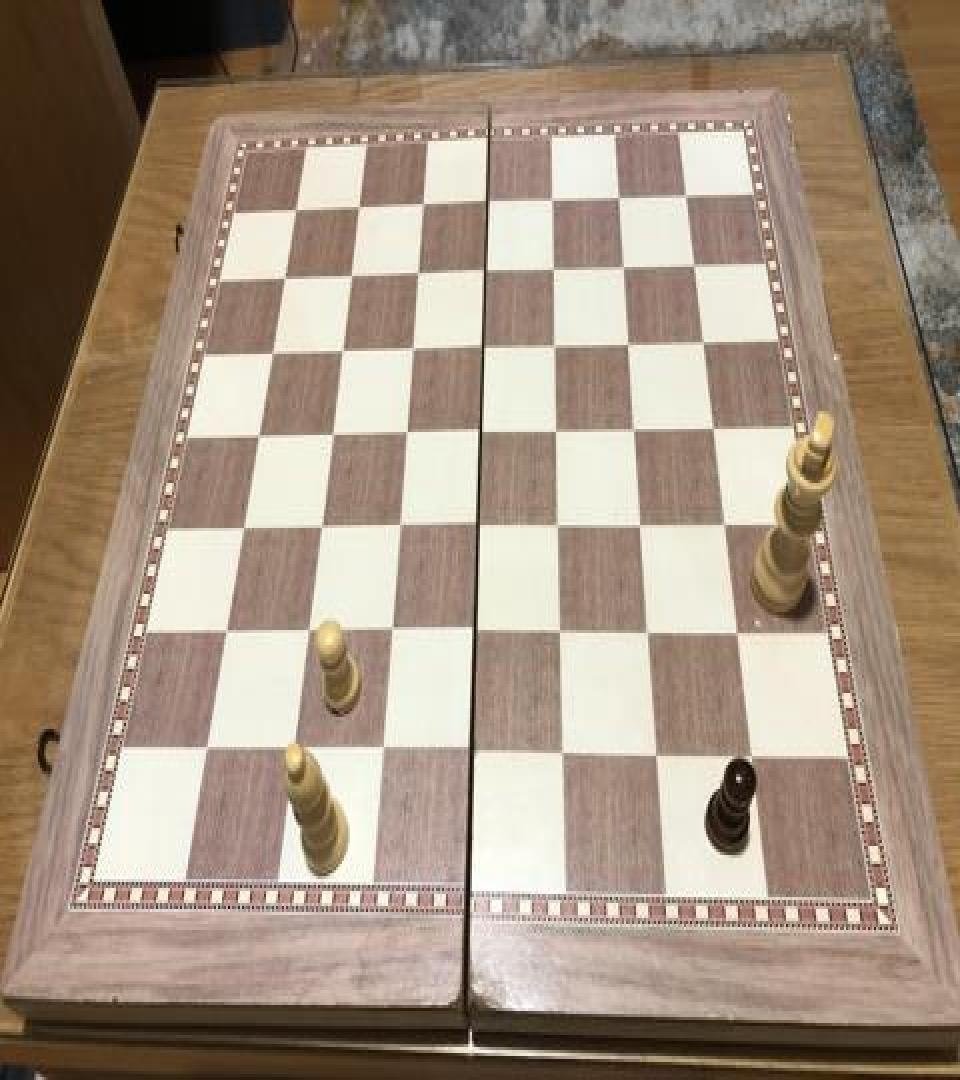xcorner: (550, 733, 574, 770), (459, 733, 483, 770), (370, 733, 394, 770), (281, 733, 305, 770), (672, 177, 696, 213), (606, 180, 630, 216), (541, 183, 565, 219), (476, 186, 500, 222), (349, 190, 373, 226), (287, 194, 311, 230), (680, 246, 704, 282), (610, 249, 634, 285), (542, 250, 566, 286), (474, 254, 498, 290), (407, 256, 431, 292), (341, 258, 365, 294), (275, 261, 299, 297), (689, 322, 713, 358), (615, 324, 639, 360), (543, 327, 567, 363), (401, 332, 425, 368), (331, 333, 355, 369), (262, 336, 286, 372), (699, 408, 723, 444), (621, 410, 645, 446), (545, 411, 569, 447), (394, 414, 418, 450), (321, 417, 345, 453), (248, 418, 272, 454), (710, 504, 734, 540), (627, 504, 651, 540), (546, 506, 570, 542), (466, 507, 490, 543), (387, 508, 411, 544), (309, 510, 333, 546), (232, 510, 256, 546), (722, 612, 746, 648), (635, 612, 659, 648), (548, 612, 572, 648), (463, 614, 487, 650), (379, 614, 403, 650), (296, 614, 320, 650), (215, 615, 239, 651), (737, 735, 761, 771), (643, 735, 667, 771), (194, 732, 218, 768), (412, 188, 436, 223), (472, 329, 496, 364), (469, 413, 493, 448)
